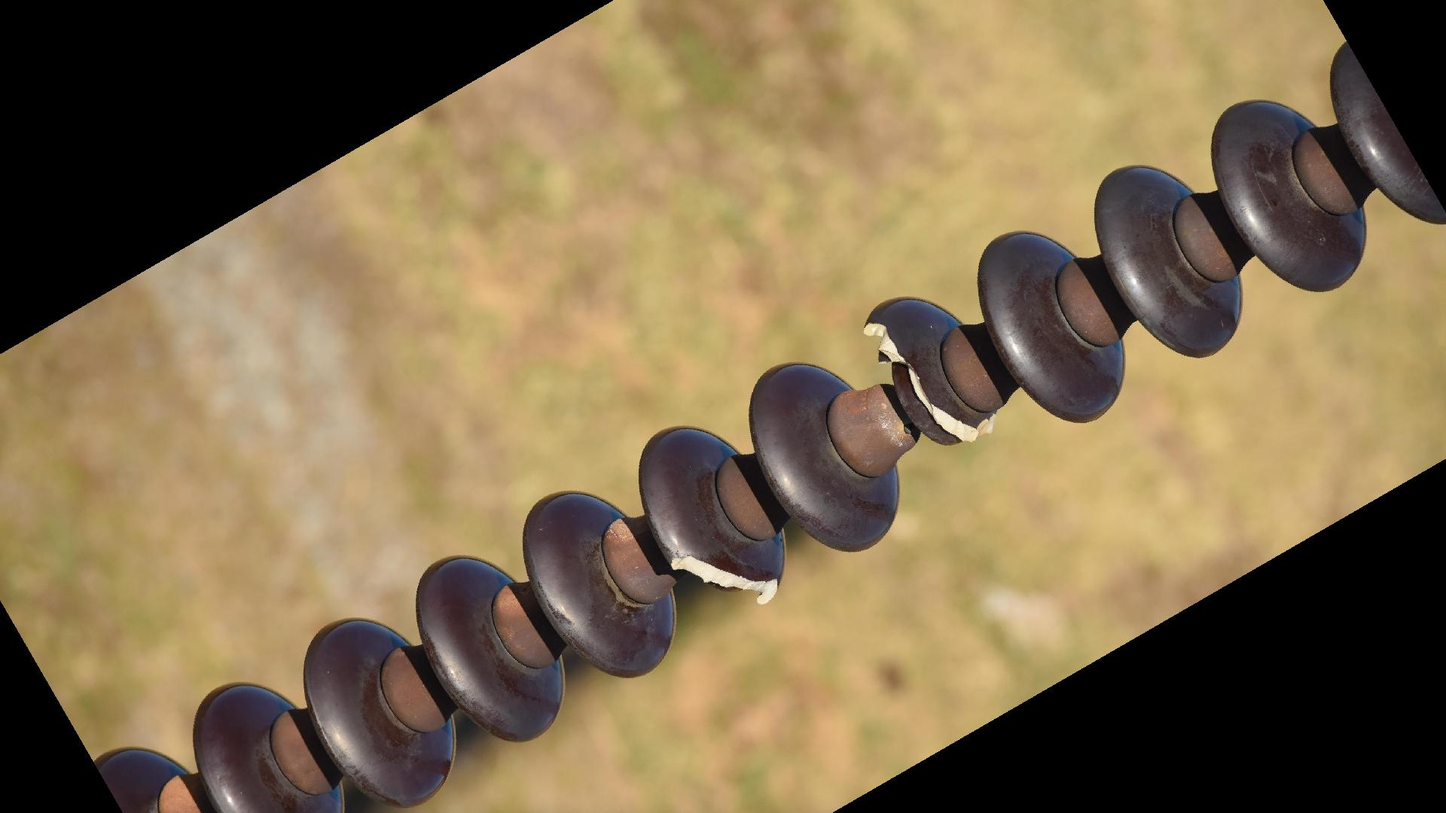insulator: (92, 34, 1446, 813)
insulator_breakage: (858, 314, 1002, 452), (660, 544, 786, 611)
